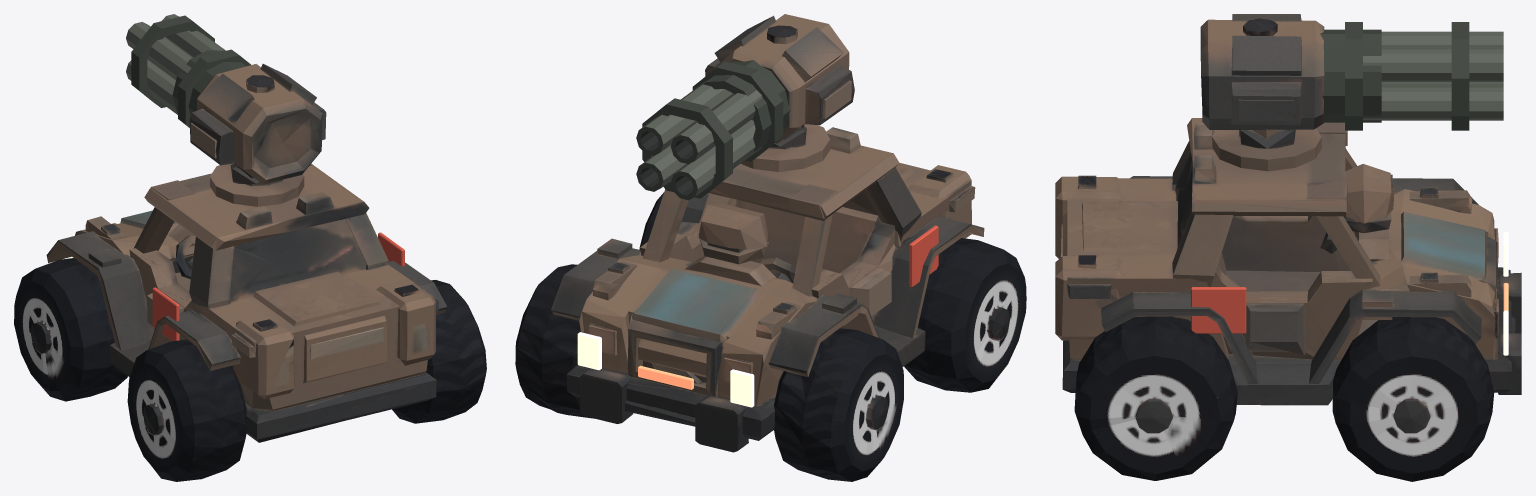
File: jeep.glb
3 views of the same model, side by side, from view 1: azimuth 30°, elevation 25°; view 2: azimuth 150°, elevation 25°; view 3: azimuth 270°, elevation 25° (orthographic). The views are drawn at different scales.
Parts seen in each view (by area): view 1: Jeep_hull, Jeep_turret, Jeep_wheel_0.284_-0.338, Jeep_wheel_-0.269_-0.338, Jeep_wheel_0.284_0.338, Jeep_four_open_barrels, Jeep_barrel_collar.001, Jeep_barrel_collar, Jeep_barrel_bearing, Jeep_side_owner_panel, Jeep_fixed_side_rail.001; view 2: Jeep_hull, Jeep_turret, Jeep_wheel_-0.269_-0.338, Jeep_wheel_0.284_-0.338, Jeep_four_open_barrels, Jeep_wheel_-0.269_0.338, Jeep_barrel_collar.001, Jeep_barrel_bearing, Jeep_barrel_collar, Jeep_side_owner_panel, Jeep_fixed_side_rail.001, Jeep_headlamp.001 (+2 smaller); view 3: Jeep_hull, Jeep_turret, Jeep_wheel_0.284_0.338, Jeep_wheel_-0.269_0.338, Jeep_four_open_barrels, Jeep_fixed_side_rail, Jeep_barrel_bearing, Jeep_side_owner_panel.001, Jeep_barrel_collar.001, Jeep_barrel_collar.
Boxes of the visible parts, x1,y1,x2,y2 form: Jeep_hull: (46,164,447,442); Jeep_turret: (144,64,369,250); Jeep_wheel_0.284_-0.338: (127,339,246,481); Jeep_wheel_-0.269_-0.338: (14,258,127,401); Jeep_wheel_0.284_0.338: (392,280,486,423); Jeep_four_open_barrels: (126,14,225,114); Jeep_barrel_collar.001: (131,15,214,107); Jeep_barrel_collar: (178,49,250,127); Jeep_barrel_bearing: (172,50,245,114); Jeep_side_owner_panel: (152,287,179,341); Jeep_fixed_side_rail.001: (110,340,151,376); Jeep_hull: (551,163,984,452); Jeep_turret: (705,14,899,220); Jeep_wheel_-0.269_-0.338: (774,328,903,481); Jeep_wheel_0.284_-0.338: (904,238,1026,392); Jeep_four_open_barrels: (636,80,762,200); Jeep_wheel_-0.269_0.338: (515,264,593,418); Jeep_barrel_collar.001: (642,98,732,198); Jeep_barrel_bearing: (702,60,790,151); Jeep_barrel_collar: (692,61,783,161); Jeep_side_owner_panel: (909,225,938,286); Jeep_fixed_side_rail.001: (876,327,925,366); Jeep_headlamp.001: (577,332,601,370); Jeep_hull: (1055,122,1521,394); Jeep_turret: (1187,14,1346,216); Jeep_wheel_0.284_0.338: (1074,316,1237,480); Jeep_wheel_-0.269_0.338: (1332,317,1494,481); Jeep_four_open_barrels: (1363,31,1503,120); Jeep_fixed_side_rail: (1230,363,1338,405); Jeep_barrel_bearing: (1320,29,1381,122); Jeep_side_owner_panel.001: (1191,287,1246,333); Jeep_barrel_collar.001: (1451,22,1469,130); Jeep_barrel_collar: (1345,22,1362,130).
Bounding box in the file's own units: 3.75 × 3.77 × 4.2.
Materials: 7 (1 with a texture image).
